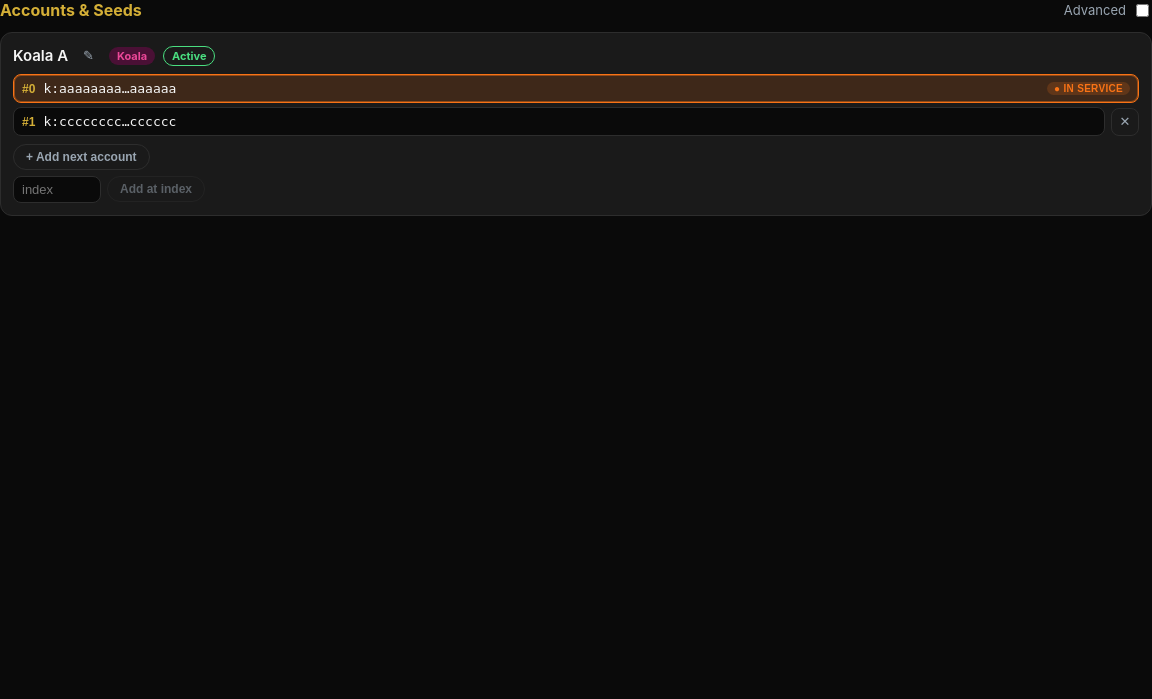
Test: AdvancedTab › lets the user reveal the codex password to verify what they typed
Expected: the element with test id "seed-wallet-1" is shown, x1=0 y1=32 x2=1151 y2=216
Click the checkbox with test id "advanced-mode-toggle": (1142,10) x1=1136 y1=4 x2=1149 y2=16
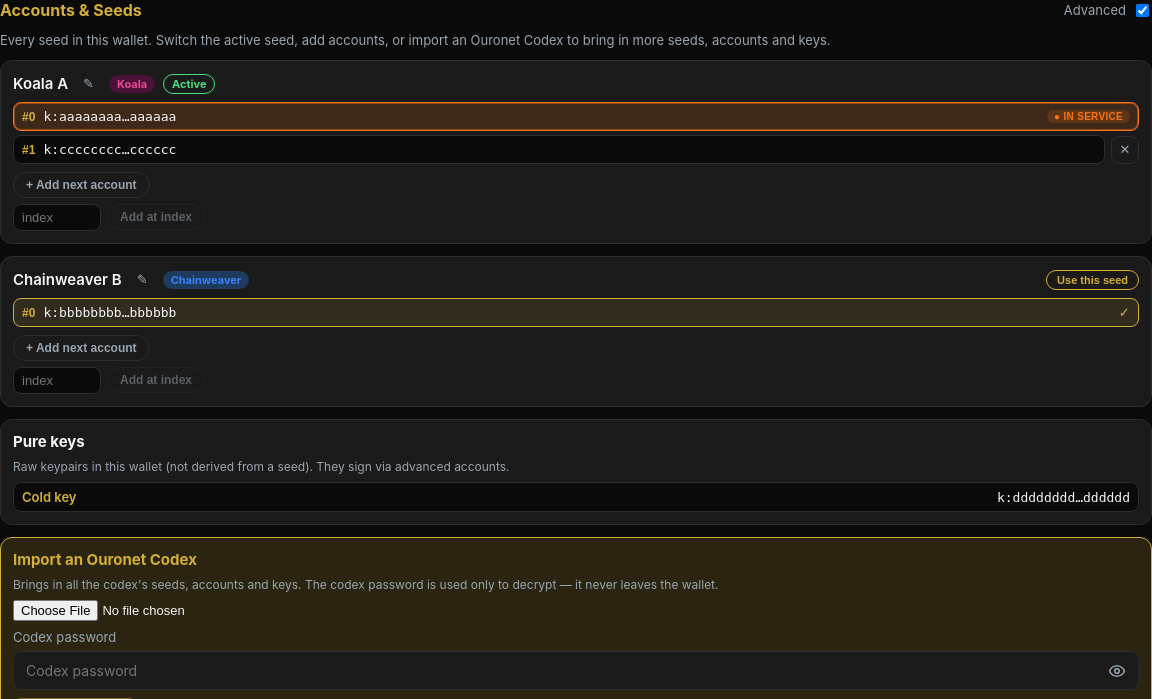
In the password field labelled "Codex password": (576,670) x1=13 y1=651 x2=1139 y2=690, type "my-secret"
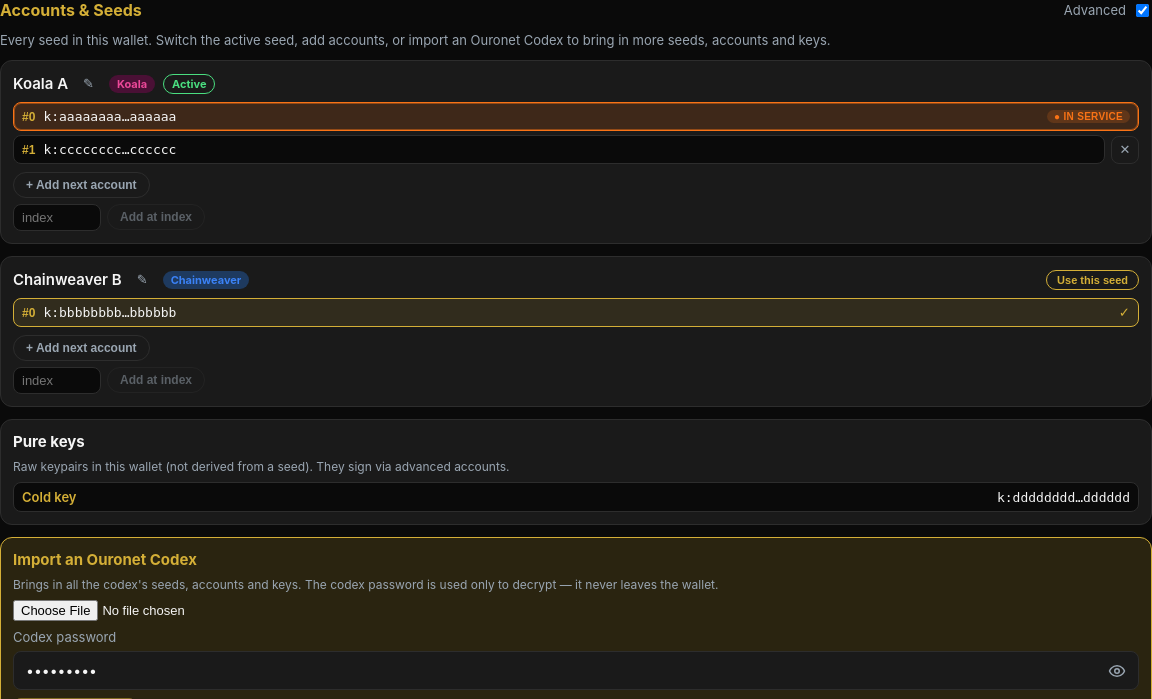
Click the button named "show password": (1117,670) x1=1099 y1=652 x2=1135 y2=688
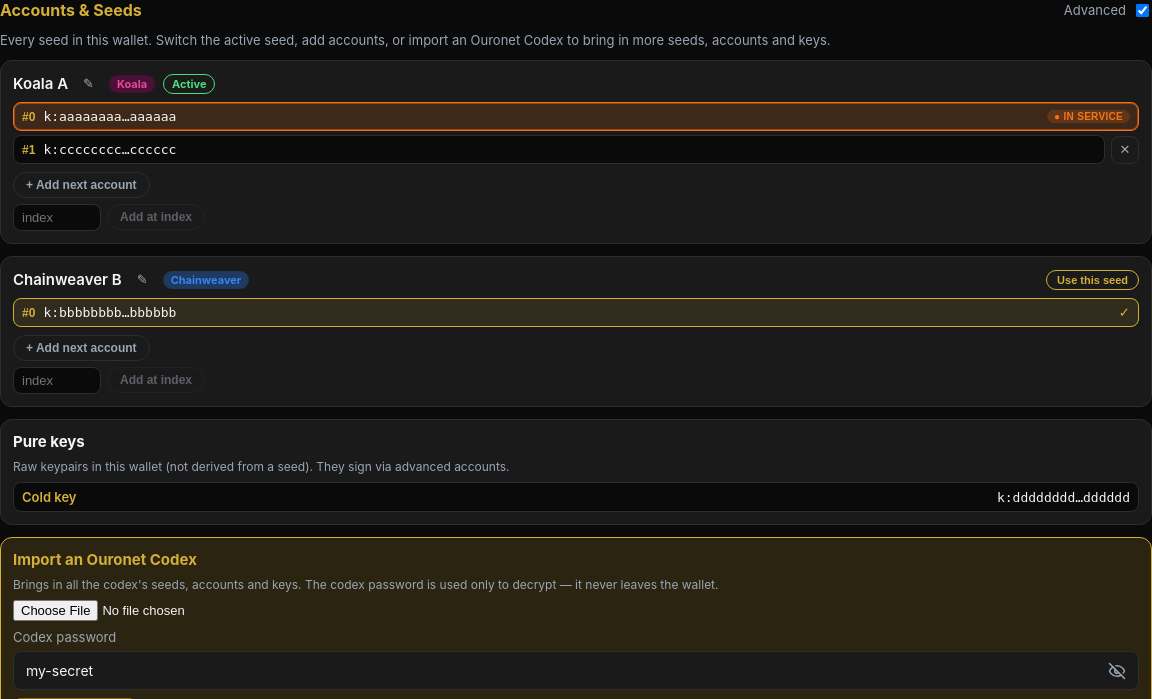
Result: the field labelled "Codex password" shows its text at x1=13 y1=651 x2=1139 y2=690
Click the button named "hide password": (1117,670) x1=1099 y1=652 x2=1135 y2=688
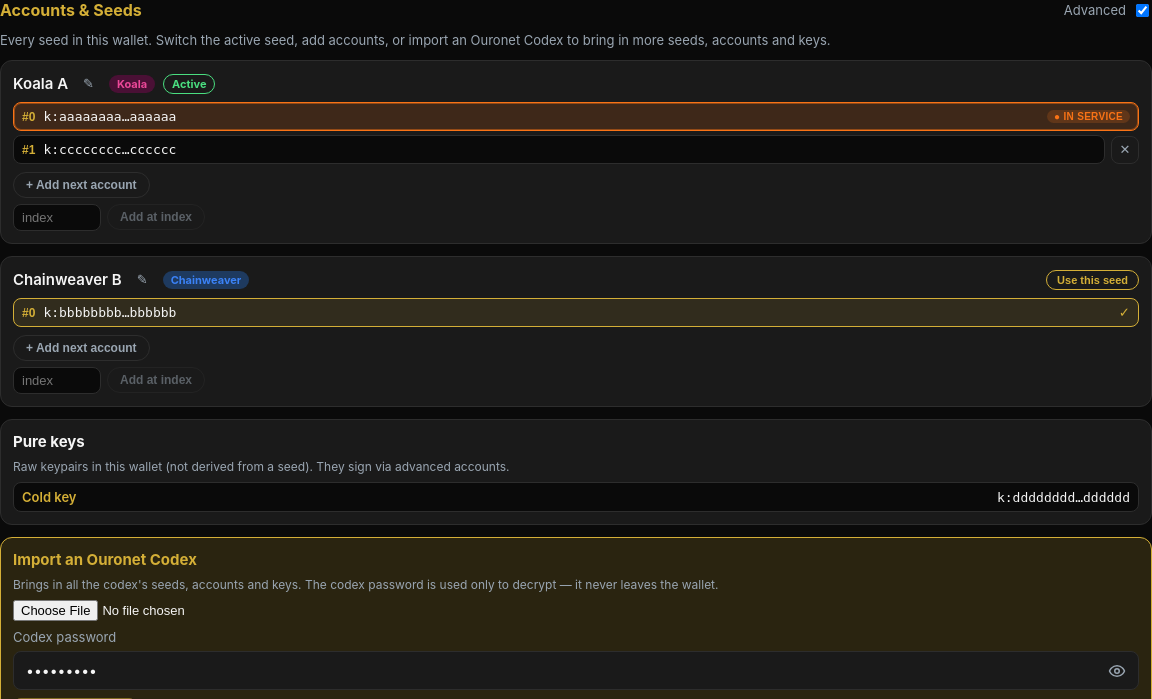
Result: the password field labelled "Codex password" hides its text at x1=13 y1=651 x2=1139 y2=690
